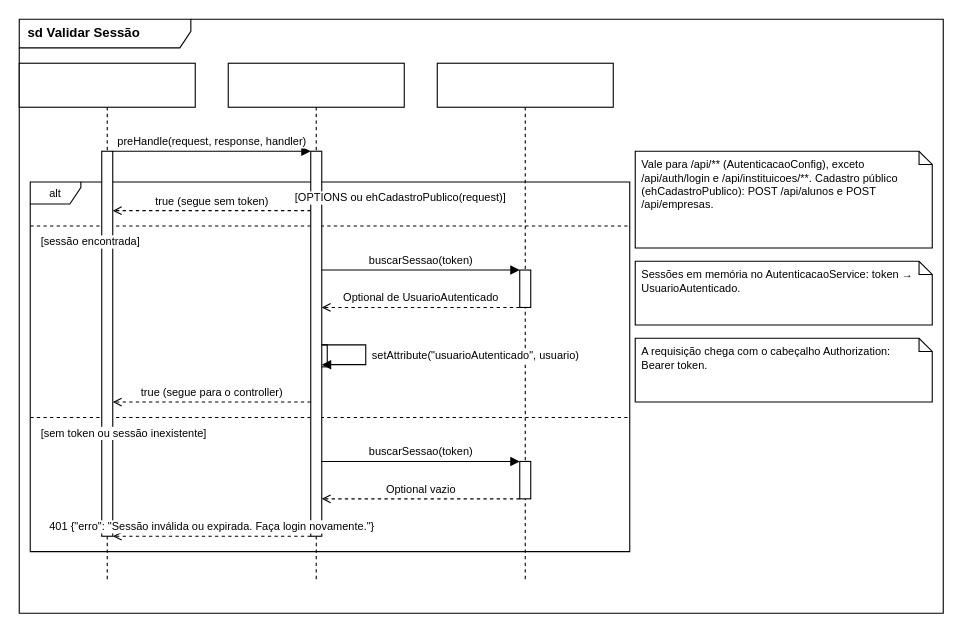
Image size: 963x633. Some labels were removed from this diagram. The shapes that lost their labels are listed below. From the top down, each one's box as (x1, y1, x2, y2) in pixels, then its label:
(18, 62, 195, 580): api.js
(227, 62, 404, 580): :AuthInterceptor
(436, 62, 613, 580): :AutenticacaoService
